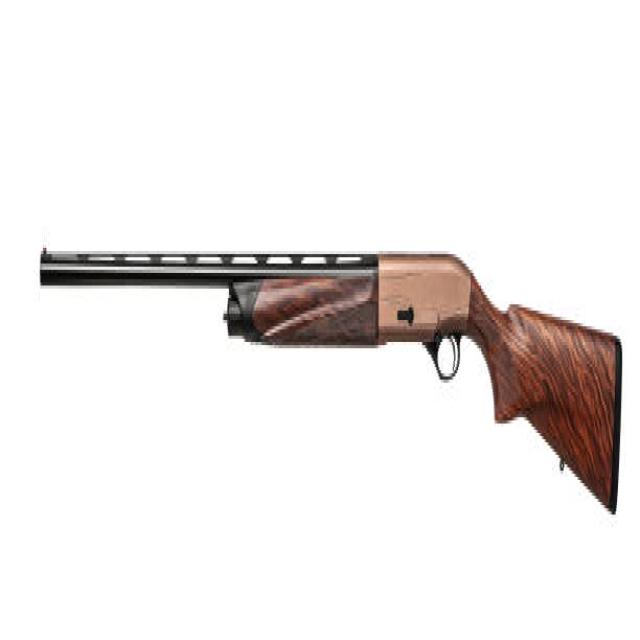rifle: (38, 232, 629, 529)
